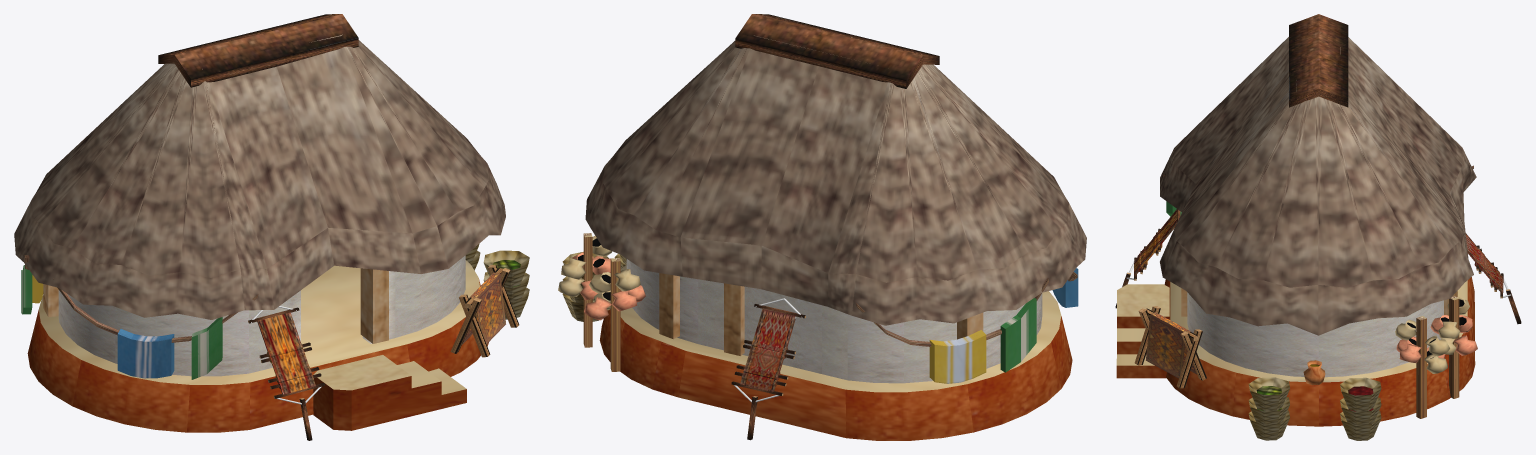
File: house_3.dae
3 views of the same model, side by side, from view 1: azimuth 30°, elevation 25°; view 2: azimuth 150°, elevation 25°; view 3: azimuth 270°, elevation 25° (orthographic). The views are drawn at different scales.
Parts seen in each view (by area): view 1: house_3; view 2: house_3; view 3: house_3.
Boxes of the visible parts, x1=… form: house_3: x1=14, y1=14, x2=529, y2=440; house_3: x1=558, y1=14, x2=1086, y2=440; house_3: x1=1115, y1=14, x2=1521, y2=440.
Size of the model in its own units: 14 by 11.68 by 9.06.
